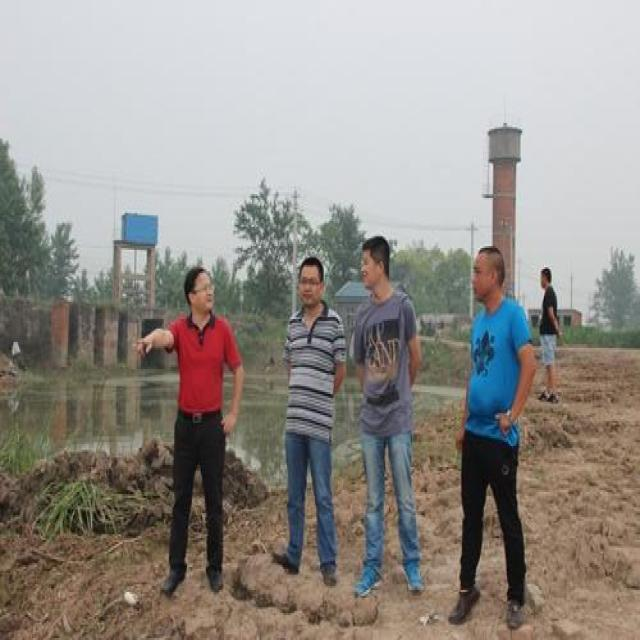Bare_Head: (470, 241, 506, 303), (360, 233, 392, 294), (183, 265, 215, 315), (298, 254, 326, 308), (540, 264, 552, 290)
NO_Safety_vest: (463, 298, 537, 448), (352, 290, 422, 432), (281, 302, 349, 441), (168, 310, 240, 422), (538, 288, 560, 340)
